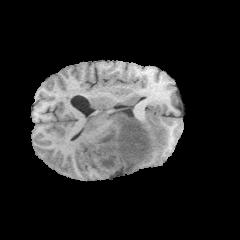glioma: (88, 115, 167, 171)
